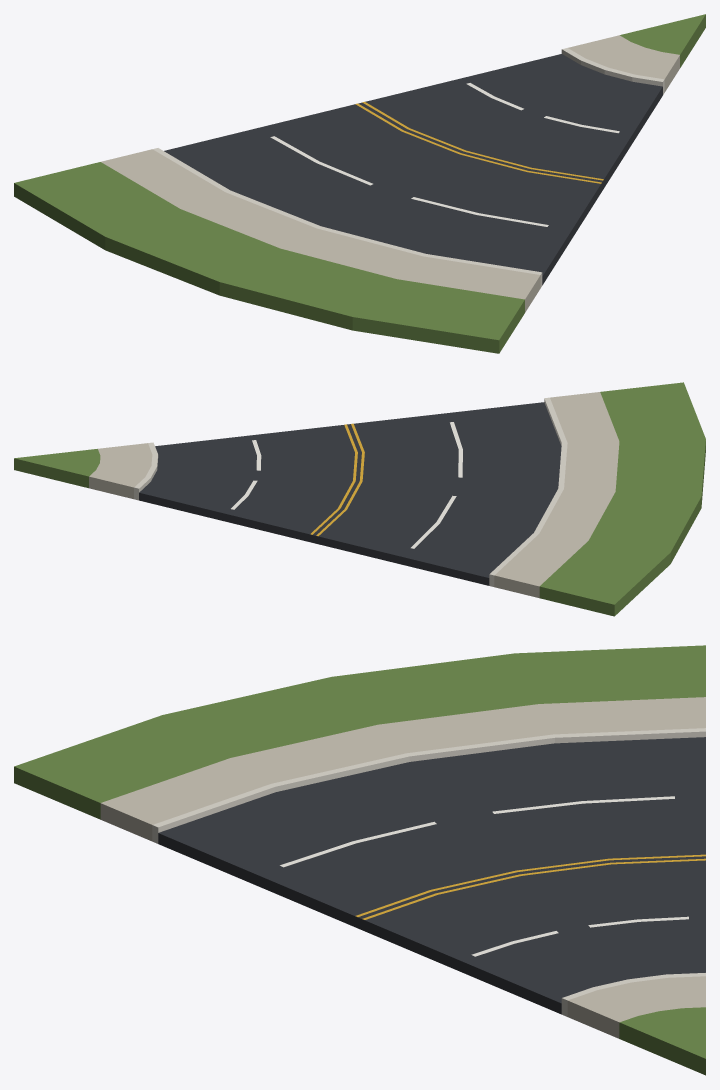
Rendered from Road_4Lane_Sidewalk_Curve45_L.glb.
3 views of the same model, one above another, from view 1: azimuth 30°, elevation 25°; view 2: azimuth 150°, elevation 25°; view 3: azimuth 270°, elevation 25° (orthographic). The views are drawn at different scales.
Visible parts, largest first — view 1: Road_4Lane_Sidewalk_Curve45_L_Asphalt, Road_4Lane_Sidewalk_Curve45_L_Grass-edge, Road_4Lane_Sidewalk_Curve45_L_Sidewalk, Road_4Lane_Sidewalk_Curve45_L_Curb, Road_4Lane_Sidewalk_Curve45_L_PaintWhite, Road_4Lane_Sidewalk_Curve45_L_PaintYellow; view 2: Road_4Lane_Sidewalk_Curve45_L_Asphalt, Road_4Lane_Sidewalk_Curve45_L_Grass-edge, Road_4Lane_Sidewalk_Curve45_L_Sidewalk, Road_4Lane_Sidewalk_Curve45_L_Curb, Road_4Lane_Sidewalk_Curve45_L_PaintWhite, Road_4Lane_Sidewalk_Curve45_L_PaintYellow; view 3: Road_4Lane_Sidewalk_Curve45_L_Asphalt, Road_4Lane_Sidewalk_Curve45_L_Grass-edge, Road_4Lane_Sidewalk_Curve45_L_Sidewalk, Road_4Lane_Sidewalk_Curve45_L_Curb, Road_4Lane_Sidewalk_Curve45_L_PaintWhite, Road_4Lane_Sidewalk_Curve45_L_PaintYellow.
Boxes of the visible parts, bbox=[...] form: Road_4Lane_Sidewalk_Curve45_L_Asphalt: bbox=[164, 54, 662, 285]; Road_4Lane_Sidewalk_Curve45_L_Grass-edge: bbox=[14, 14, 705, 353]; Road_4Lane_Sidewalk_Curve45_L_Sidewalk: bbox=[101, 35, 679, 312]; Road_4Lane_Sidewalk_Curve45_L_Curb: bbox=[153, 48, 664, 287]; Road_4Lane_Sidewalk_Curve45_L_PaintWhite: bbox=[270, 83, 619, 226]; Road_4Lane_Sidewalk_Curve45_L_PaintYellow: bbox=[355, 101, 603, 183]; Road_4Lane_Sidewalk_Curve45_L_Asphalt: bbox=[139, 402, 561, 585]; Road_4Lane_Sidewalk_Curve45_L_Grass-edge: bbox=[14, 382, 705, 616]; Road_4Lane_Sidewalk_Curve45_L_Sidewalk: bbox=[89, 392, 619, 598]; Road_4Lane_Sidewalk_Curve45_L_Curb: bbox=[134, 397, 567, 586]; Road_4Lane_Sidewalk_Curve45_L_PaintWhite: bbox=[231, 422, 462, 548]; Road_4Lane_Sidewalk_Curve45_L_PaintYellow: bbox=[310, 423, 364, 536]; Road_4Lane_Sidewalk_Curve45_L_Asphalt: bbox=[158, 737, 705, 1014]; Road_4Lane_Sidewalk_Curve45_L_Grass-edge: bbox=[14, 645, 705, 1075]; Road_4Lane_Sidewalk_Curve45_L_Sidewalk: bbox=[100, 697, 705, 1038]; Road_4Lane_Sidewalk_Curve45_L_Curb: bbox=[152, 728, 705, 1016]; Road_4Lane_Sidewalk_Curve45_L_PaintWhite: bbox=[280, 796, 688, 956]; Road_4Lane_Sidewalk_Curve45_L_PaintYellow: bbox=[355, 854, 705, 919].
Size of the model in its own units: 24 by 0.45 by 16.97.
